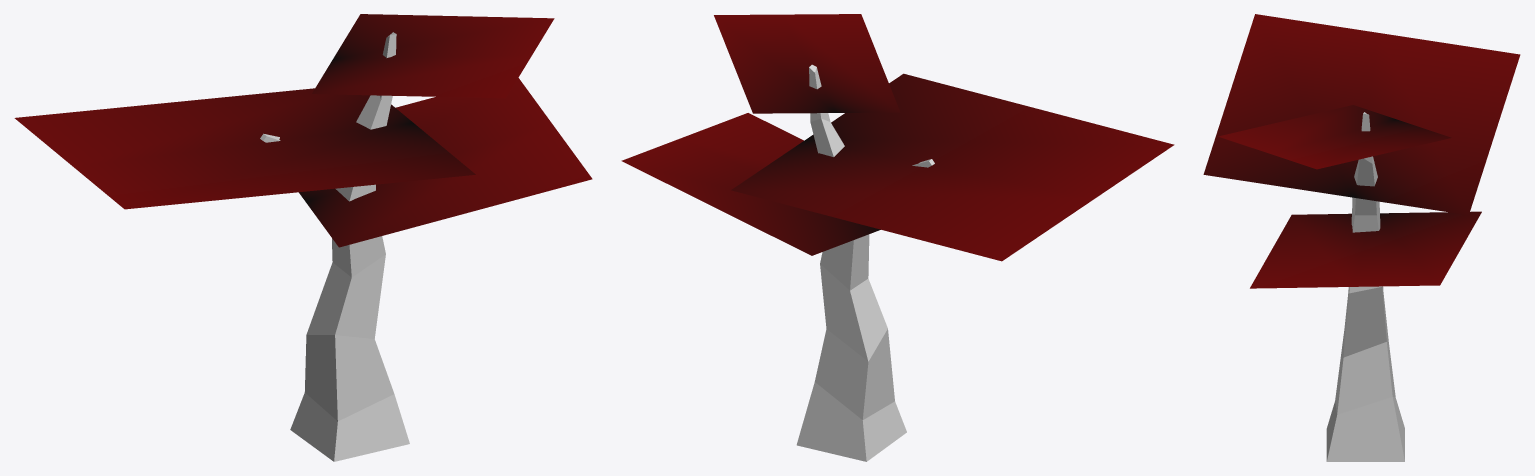
Rendered from WideTree.fbx.
The picture shows the model from 3 angles, left to right: view 1: azimuth 30°, elevation 25°; view 2: azimuth 150°, elevation 25°; view 3: azimuth 270°, elevation 25°; orthographic projection. The views are drawn at different scales.
Parts seen in each view (by area): view 1: LEAFES, TREE; view 2: LEAFES, TREE; view 3: LEAFES, TREE.
Boxes of the visible parts, box(x1,y1,x2,y2) form: LEAFES: box(14, 14, 592, 247); TREE: box(260, 32, 409, 461); LEAFES: box(621, 14, 1174, 261); TREE: box(796, 64, 934, 461); LEAFES: box(1203, 14, 1520, 288); TREE: box(1326, 112, 1404, 461).
Bounding box in the file's own units: 2.11 × 1.61 × 1.31.
